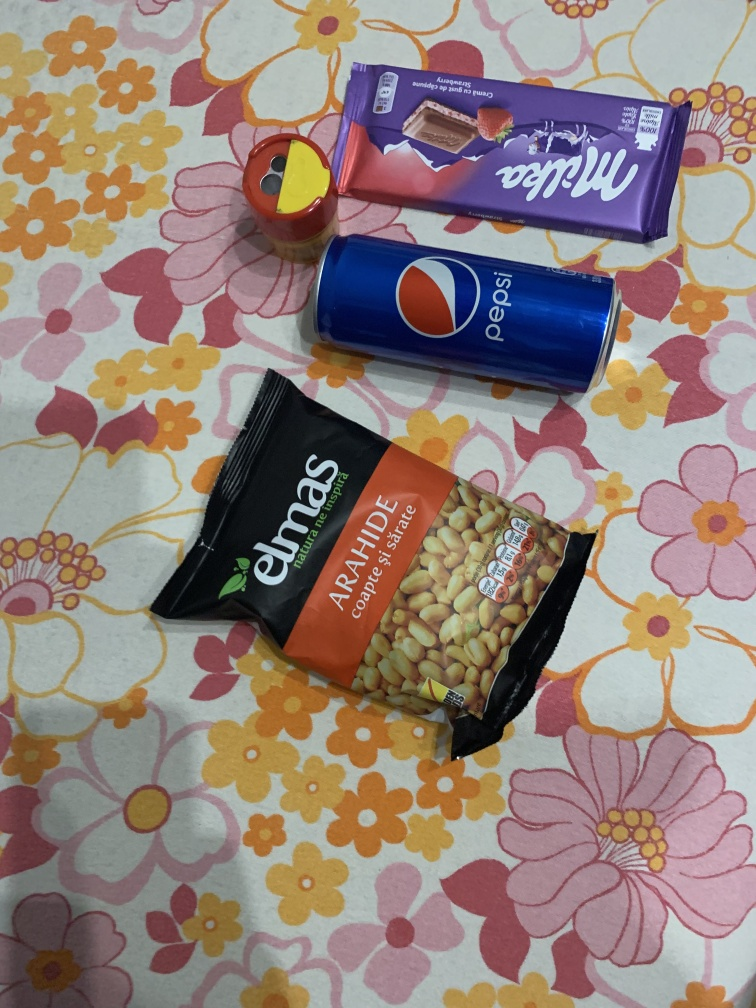milka: (329, 59, 692, 248)
peanuts: (146, 362, 615, 764)
pepsi: (286, 225, 622, 397)
